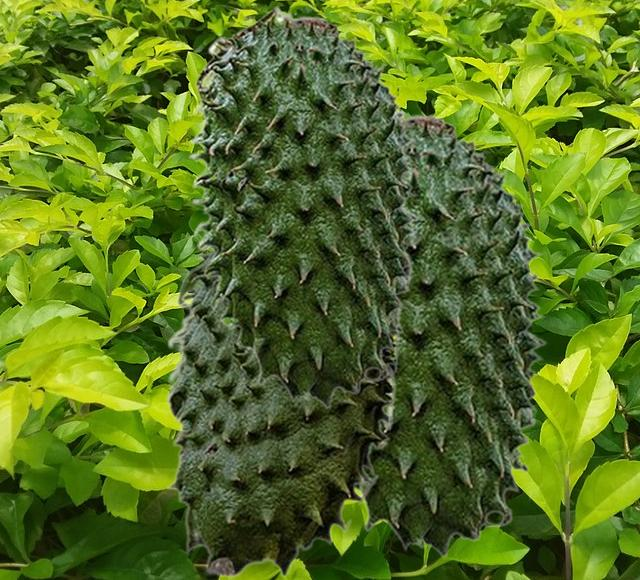guyabano: (164, 175, 414, 578), (188, 4, 419, 408), (356, 106, 547, 557)
